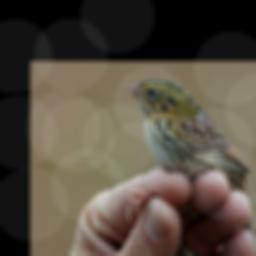Sparrow: (123, 78, 256, 256)
